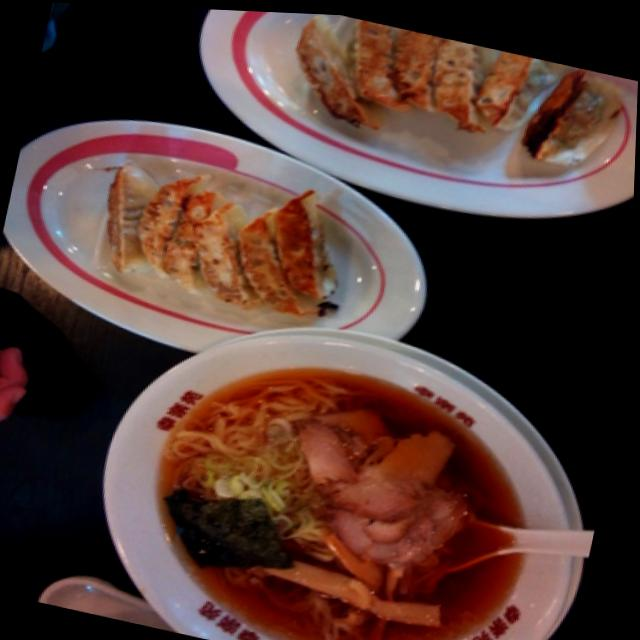带馅早点: (0, 84, 460, 394), (154, 6, 640, 246)
面条主食: (58, 266, 631, 640)
